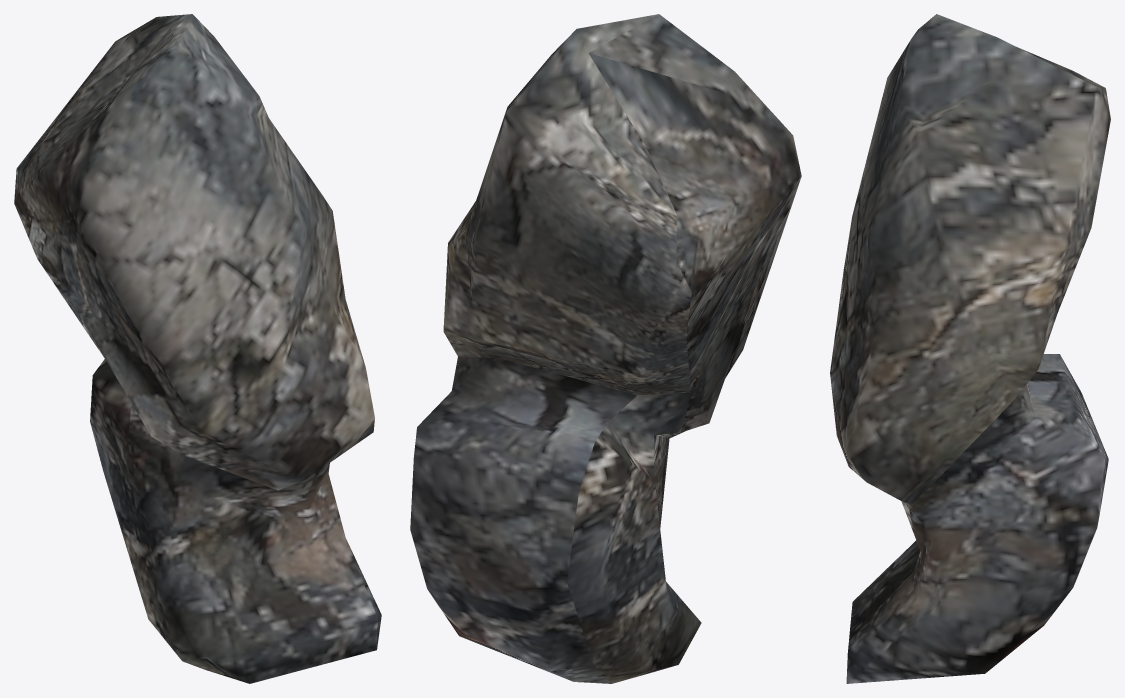
File: LeftLeg.obj
3 renders of one model, left to right at view 1: azimuth 30°, elevation 25°; view 2: azimuth 150°, elevation 25°; view 3: azimuth 270°, elevation 25°, orthographic. The views are drawn at different scales.
Visible parts, largest first — view 1: hands&leg.002; view 2: hands&leg.002; view 3: hands&leg.002.
Boxes of the visible parts, x1,y1,x2,y2 form: hands&leg.002: (14, 14, 381, 683); hands&leg.002: (410, 14, 801, 683); hands&leg.002: (830, 14, 1110, 683).
Size of the model in its own units: 2.13 by 4.45 by 1.86.
